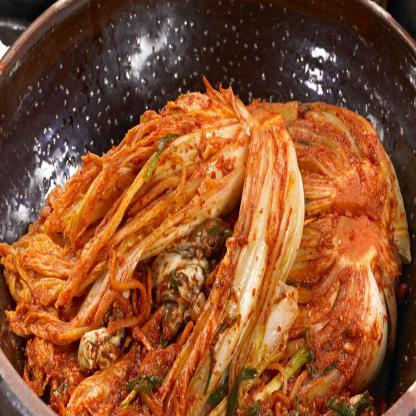kimchi: (13, 80, 307, 354), (171, 210, 408, 416), (207, 82, 412, 258)
